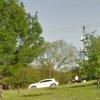Tree: (2, 0, 52, 73)
